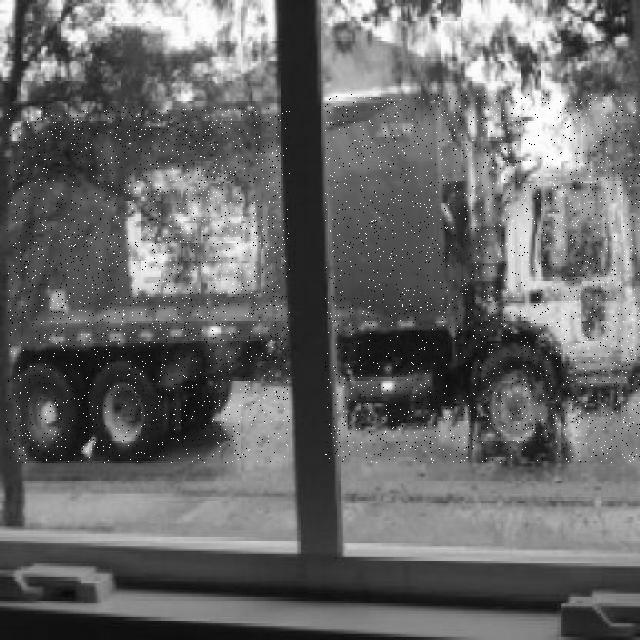Garbage Truck: (325, 94, 640, 463), (6, 107, 290, 463)
